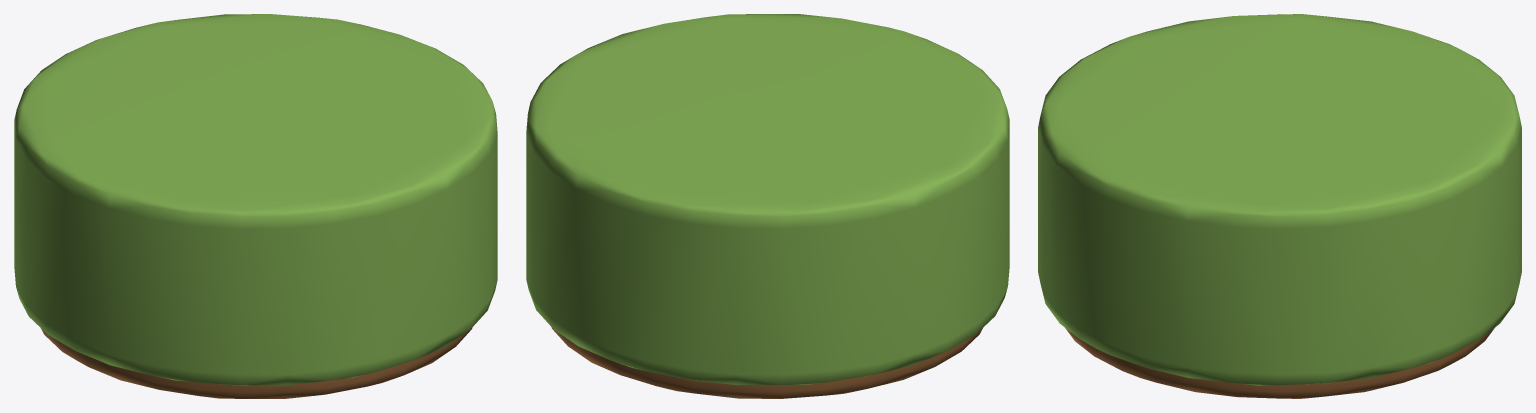
File: stool_04_leather_green.fbx
3 views of the same model, side by side, from view 1: azimuth 30°, elevation 25°; view 2: azimuth 150°, elevation 25°; view 3: azimuth 270°, elevation 25° (orthographic).
Visible parts, largest first — view 1: stool_04_leather_green; view 2: stool_04_leather_green; view 3: stool_04_leather_green.
Part boxes in pixels (bbox=[...]): stool_04_leather_green: bbox=[14, 14, 497, 398]; stool_04_leather_green: bbox=[526, 14, 1009, 398]; stool_04_leather_green: bbox=[1038, 14, 1521, 398].
Bounding box in the file's own units: 86.76 × 38.97 × 86.76.
Materials: 2 (2 with a texture image).
